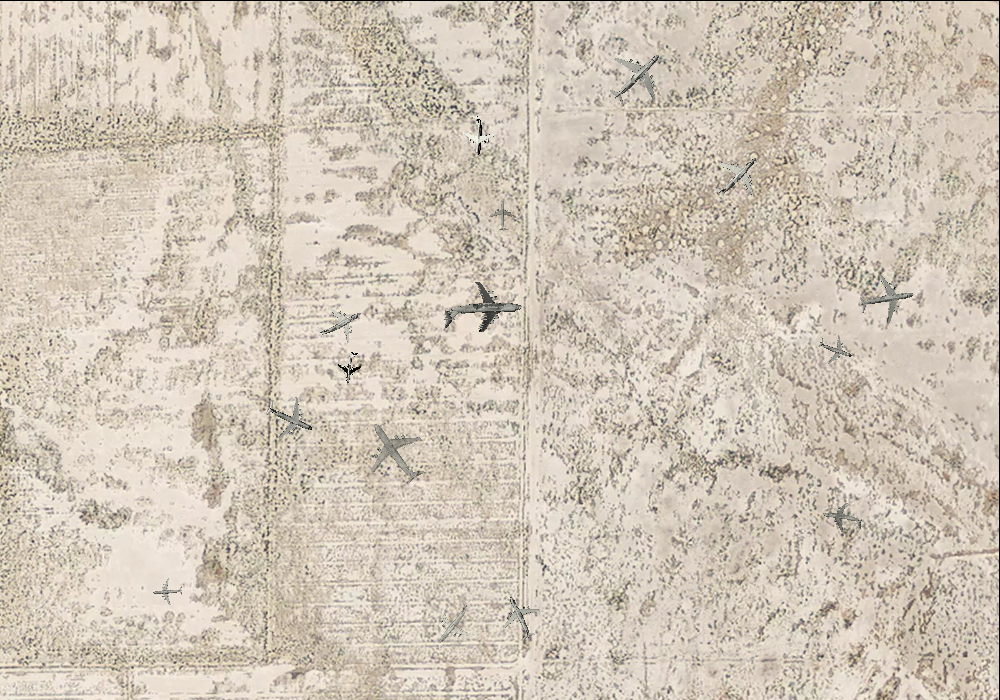plane: (348, 404, 442, 499), (594, 34, 679, 118), (442, 277, 522, 346), (700, 140, 773, 213), (420, 590, 486, 656), (257, 386, 322, 450), (855, 269, 918, 330), (309, 293, 370, 354), (491, 588, 549, 647), (813, 327, 858, 370), (820, 498, 865, 539), (457, 113, 498, 156), (335, 350, 366, 385), (488, 199, 518, 231), (152, 577, 182, 606)
